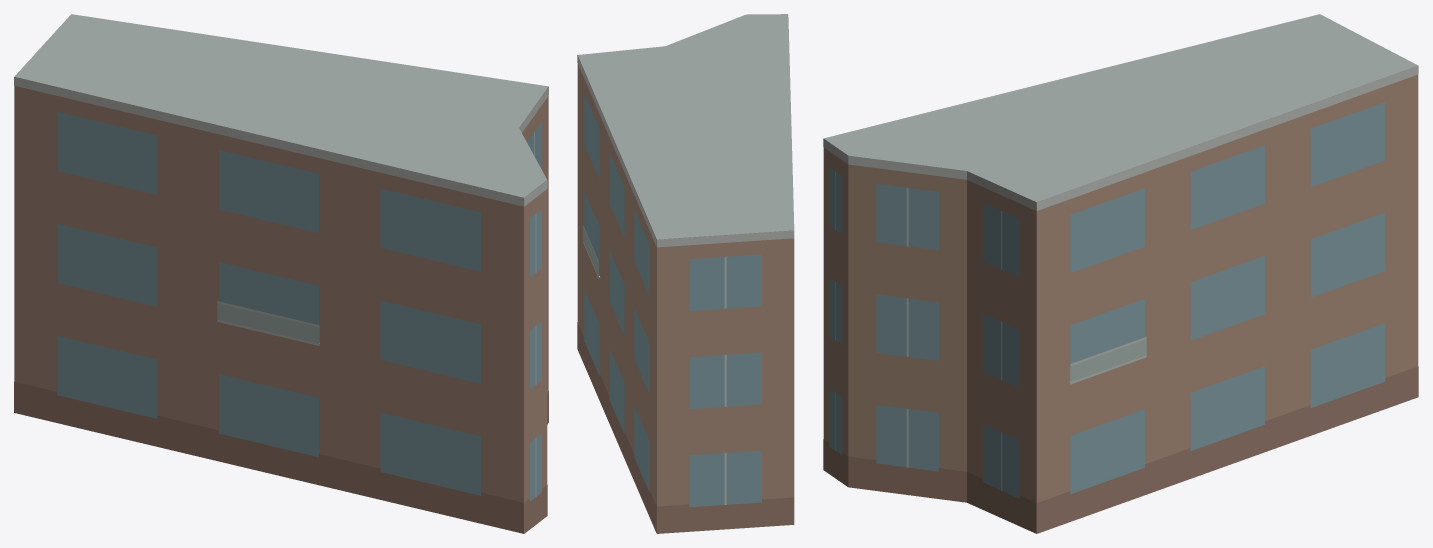
The model's file is survey-upis-32526248.glb.
3 views of the same model, side by side, from view 1: azimuth 30°, elevation 25°; view 2: azimuth 150°, elevation 25°; view 3: azimuth 270°, elevation 25° (orthographic). The views are drawn at different scales.
Visible parts, largest first — view 1: survey-upis-32526248.tmp; view 2: survey-upis-32526248.tmp; view 3: survey-upis-32526248.tmp.
Boxes of the visible parts, x1,y1,x2,y2 form: survey-upis-32526248.tmp: (14, 14, 548, 533); survey-upis-32526248.tmp: (577, 14, 794, 533); survey-upis-32526248.tmp: (823, 14, 1418, 533).
Bounding box in the file's own units: 11.15 × 9.15 × 14.89.
